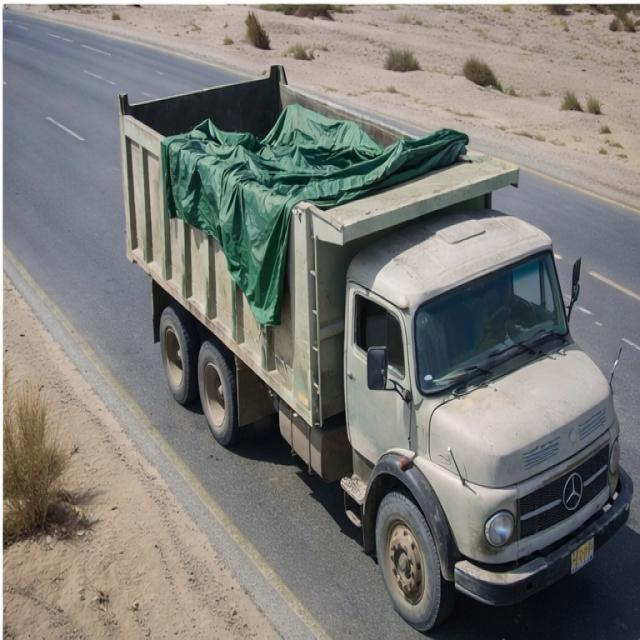trailer: (103, 52, 531, 248)
truck: (90, 11, 636, 624)
